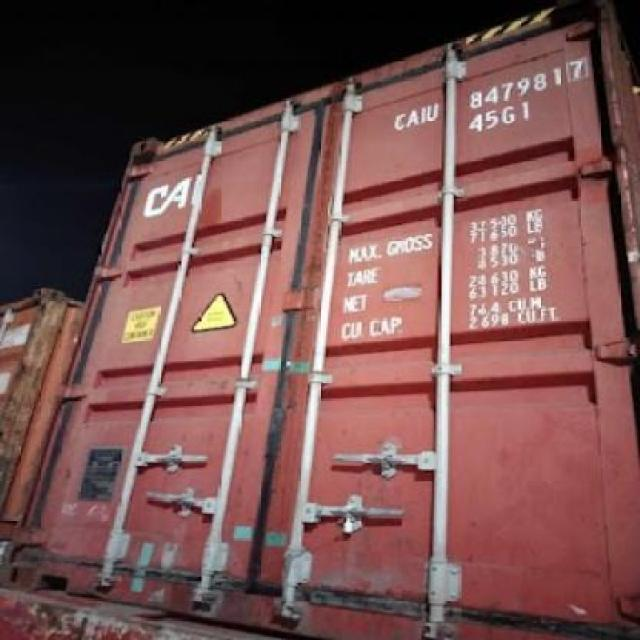ISO: (464, 104, 532, 133)
container_number: (389, 48, 593, 132)
